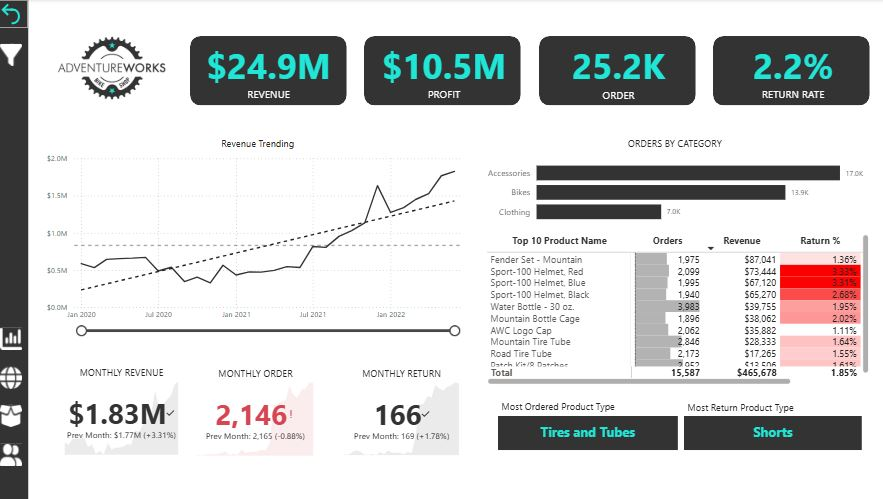

The dashboard page shown, as its layout file describes it:
{"tool":"powerbi","page":{"name":"Exec dashboard","canvas":[1280,720],"ordinal":1},"visuals":[{"type":"image","title":"AW Logo","box":[65.7,0,198.6,198.6],"z":0},{"type":"group","id":"g1","title":"KPI Background","box":[278.6,52.9,978.6,100],"z":0,"group":"g3"},{"type":"shape","box":[278.6,52.9,225.7,100],"z":0,"group":"g1"},{"type":"card","fields":{"Values":["Measure Table.Total Revenue"]},"box":[280.8,53,220.6,100],"z":0,"group":"g2"},{"type":"actionButton","box":[0,470,44.3,40],"z":0,"group":"g4"},{"type":"shape","title":"Left Nav Background","box":[0,0,45,720],"z":1000},{"type":"shape","box":[1031.5,52.9,225.7,100],"z":1000,"group":"g1"},{"type":"group","id":"g2","title":"KPI Values","box":[280.8,53,978.3,101.5],"z":1000,"group":"g3"},{"type":"card","fields":{"Values":["Measure Table.Total Profit"]},"box":[532.6,53,222.1,100],"z":1000,"group":"g2"},{"type":"actionButton","box":[0,525.7,44.3,40],"z":1000,"group":"g4"},{"type":"group","id":"g3","title":"KPI's","box":[278.6,52.9,980.5,101.6],"z":2000},{"type":"shape","box":[780.5,52.9,225.7,100],"z":2000,"group":"g1"},{"type":"card","fields":{"Values":["Measure Table.Total Order"]},"box":[784.1,53,220.6,101.5],"z":2000,"group":"g2"},{"type":"actionButton","box":[0,581.4,44.3,40],"z":2000,"group":"g4"},{"type":"shape","box":[529.6,52.9,225.7,100],"z":3000,"group":"g1"},{"type":"card","fields":{"Values":["Measure Table.Return Rate"]},"box":[1034.1,53,225,100],"z":3000,"group":"g2"},{"type":"lineChart","title":"Revenue Trending","fields":{"Y":["Measure Table.Total Revenue","select","select1","select2"],"Category":["Calendar Lookup.Start of Year Hierarchy.Start of Year","Calendar Lookup.Start of Year Hierarchy.Start of Quarter","Calendar Lookup.Start of Year Hierarchy.Start of Month","Calendar Lookup.Start of Year Hierarchy.Date","Calendar Lookup.Start of Year Hierarchy.Start of Week"]},"box":[65.7,198.6,618.6,290],"z":3000},{"type":"actionButton","box":[0,637.1,44.3,40],"z":3000,"group":"g4"},{"type":"kpi","title":"MONTHLY REVENUE","fields":{"Indicator":["Measure Table.Total Revenue"],"TrendLine":["Calendar Lookup.Start of Year Hierarchy.Start of Month"],"Goal":["Measure Table.Previous Month Revenue"]},"box":[92.9,528.6,174.3,132.9],"z":4000},{"type":"kpi","title":"MONTHLY ORDER","fields":{"TrendLine":["Calendar Lookup.Start of Year Hierarchy.Start of Month"],"Indicator":["Measure Table.Total Order"],"Goal":["Measure Table.Previous Month Order"]},"box":[284.3,530,177.1,132.9],"z":5000},{"type":"kpi","title":"MONTHLY RETURN","fields":{"TrendLine":["Calendar Lookup.Start of Year Hierarchy.Start of Month"],"Indicator":["Measure Table.Total Returns"],"Goal":["Measure Table.Previous Month Return"]},"box":[495.8,530.2,175,132.4],"z":6000},{"type":"clusteredBarChart","title":"ORDERS BY CATEGORY","fields":{"Category":["Product Categories Lookup.CategoryName"],"Y":["Measure Table.Total Order"]},"box":[697.1,198.6,558.6,135.7],"z":7000},{"type":"pivotTable","fields":{"Rows":["Product Lookup.ProductName"],"Values":["Measure Table.Total Order","Measure Table.Total Revenue","Measure Table.Return Rate","select"]},"box":[701.4,334.3,558.6,225.7],"z":8000},{"type":"card","fields":{"Values":["Min(Product Subcategories Lookup.SubcategoryName)"]},"box":[721.4,600,258.6,48.6],"z":9000},{"type":"textbox","box":[721.3,573.7,183.8,32.4],"z":10000},{"type":"card","fields":{"Values":["Min(Product Subcategories Lookup.SubcategoryName)"]},"box":[988.6,600,255.7,48.6],"z":11000},{"type":"textbox","box":[988.6,574.3,182.9,31.4],"z":12000},{"type":"actionButton","box":[0,1.4,44.3,40],"z":13000},{"type":"group","id":"g4","title":"Navigation Buttons","box":[0,470,44.3,207.1],"z":14000},{"type":"actionButton","box":[0,60,44.3,40],"z":15000}]}

Visuals, with their boxes in screenshot pixels (x1, y1, x2, y2), scaled from the page's 1280x720 canvas onto the 883x499 screenshot:
"AW Logo" image: box=[45, 0, 182, 138]
"KPI Background" group: box=[192, 37, 867, 106]
shape: box=[192, 37, 348, 106]
card - Measure Table.Total Revenue: box=[194, 37, 346, 106]
actionButton: box=[0, 326, 31, 353]
"Left Nav Background" shape: box=[0, 0, 31, 498]
shape: box=[712, 37, 867, 106]
"KPI Values" group: box=[194, 37, 869, 107]
card - Measure Table.Total Profit: box=[367, 37, 521, 106]
actionButton: box=[0, 364, 31, 392]
"KPI's" group: box=[192, 37, 869, 107]
shape: box=[538, 37, 694, 106]
card - Measure Table.Total Order: box=[541, 37, 693, 107]
actionButton: box=[0, 403, 31, 431]
shape: box=[365, 37, 521, 106]
card - Measure Table.Return Rate: box=[713, 37, 869, 106]
"Revenue Trending" lineChart: box=[45, 138, 472, 339]
actionButton: box=[0, 442, 31, 469]
"MONTHLY REVENUE" kpi: box=[64, 366, 184, 458]
"MONTHLY ORDER" kpi: box=[196, 367, 318, 459]
"MONTHLY RETURN" kpi: box=[342, 367, 463, 459]
"ORDERS BY CATEGORY" clusteredBarChart: box=[481, 138, 866, 232]
pivotTable - Product Lookup.ProductName x Measure Table.Total Order: box=[484, 232, 869, 388]
card - Min(Product Subcategories Lookup.SubcategoryName): box=[498, 416, 676, 450]
textbox: box=[498, 398, 624, 420]
card - Min(Product Subcategories Lookup.SubcategoryName): box=[682, 416, 858, 450]
textbox: box=[682, 398, 808, 420]
actionButton: box=[0, 1, 31, 29]
"Navigation Buttons" group: box=[0, 326, 31, 469]
actionButton: box=[0, 42, 31, 69]
